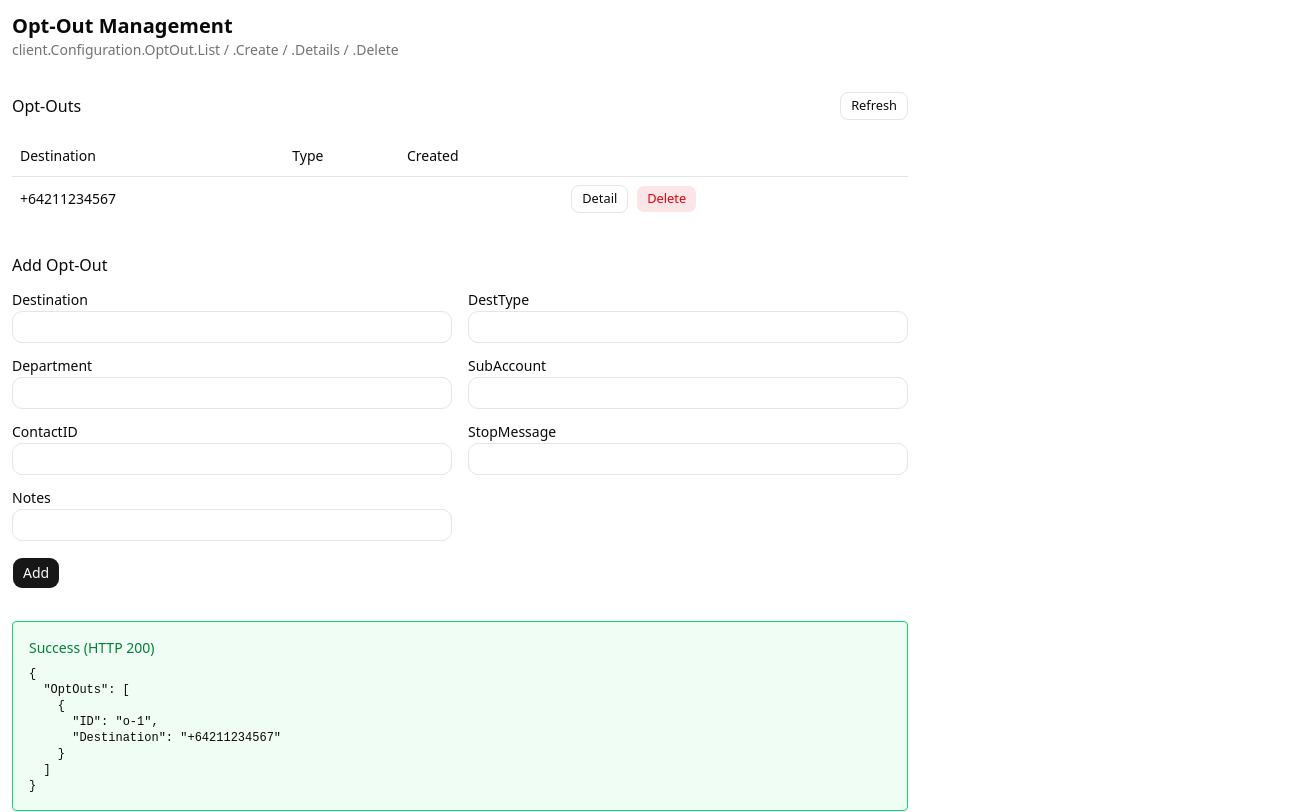
Test case: OptOutPage › Detail fetches a single opt-out and shows it in the response viewer
The width and height of the screenshot is (1292, 812).
Expected: the text "+64211234567" is shown, [12, 176, 284, 220]
What coordinates should you click on to do the following:
click the button "Detail"
I would click on:
 (600, 198)
Its box is [571, 184, 628, 212].
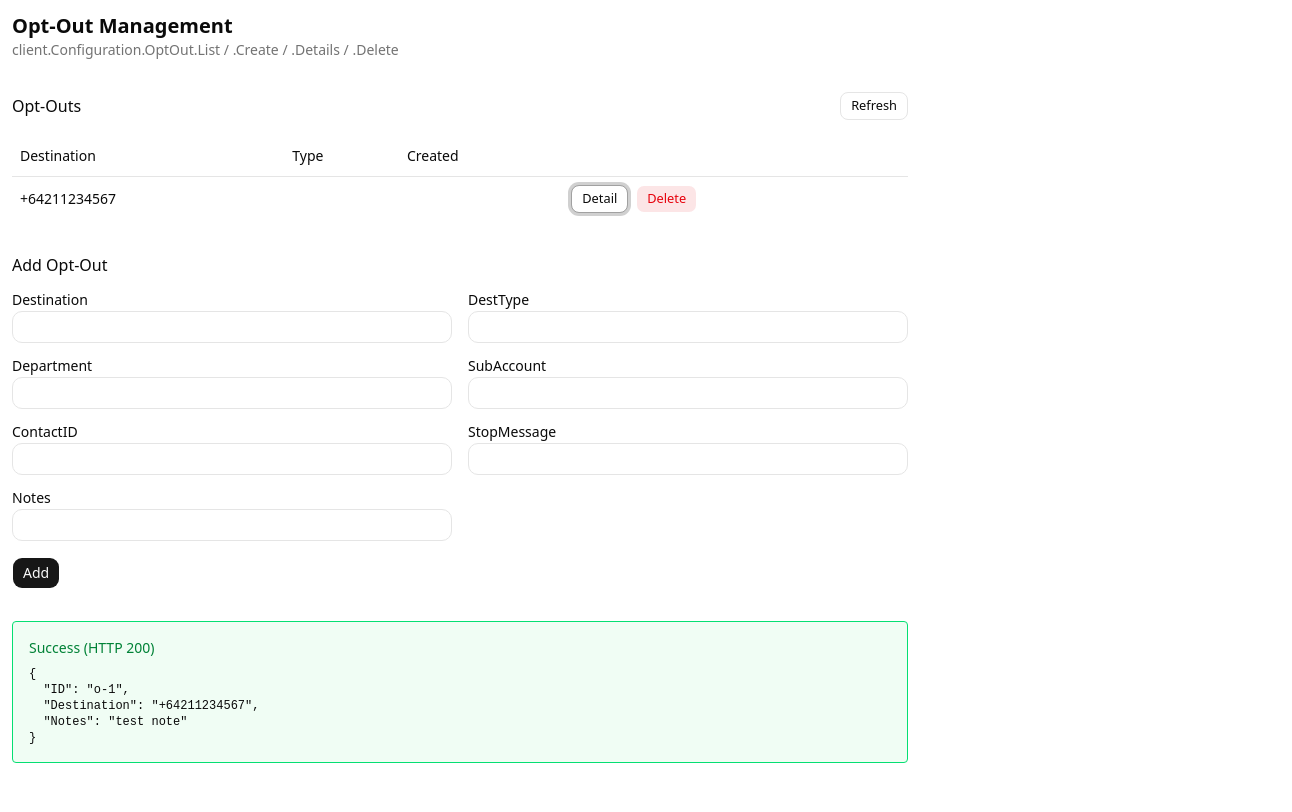
Now the text "test note" is shown, box [29, 666, 260, 744]
